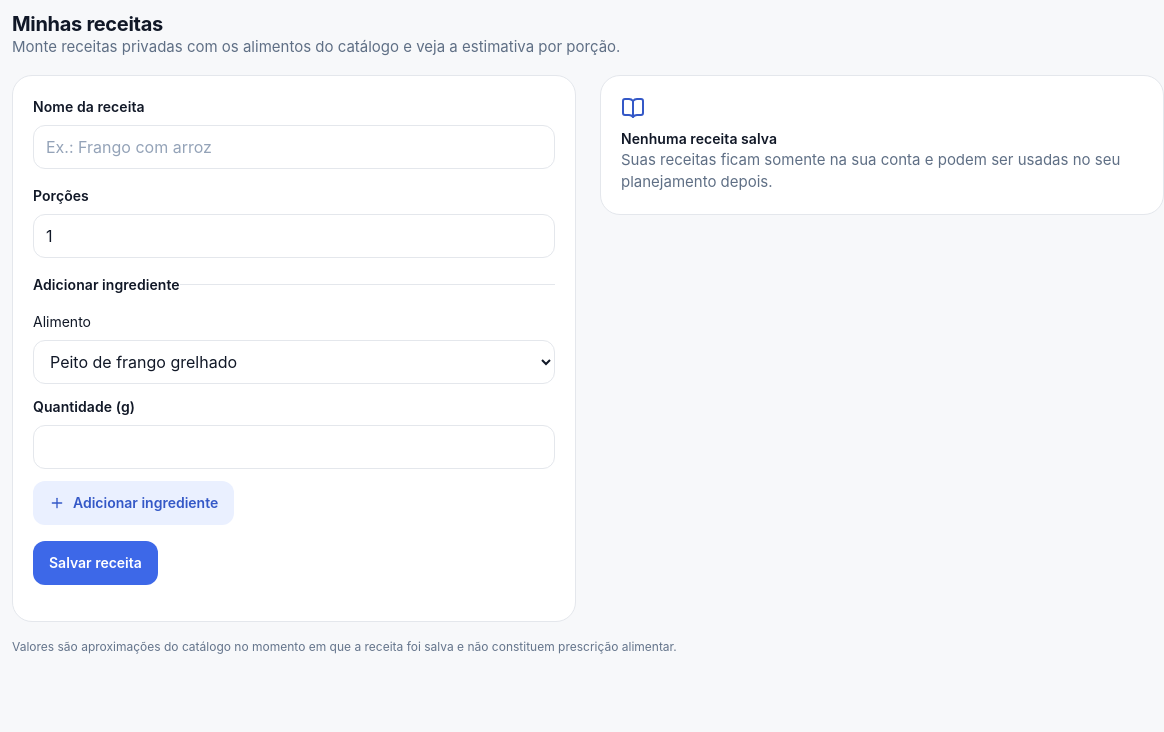
Test case: RecipePanel › builds an ingredient list and delegates a coherent recipe input
In the field labelled "Nome da receita": (294, 146) [33, 124, 555, 168], type "Frango grelhado"
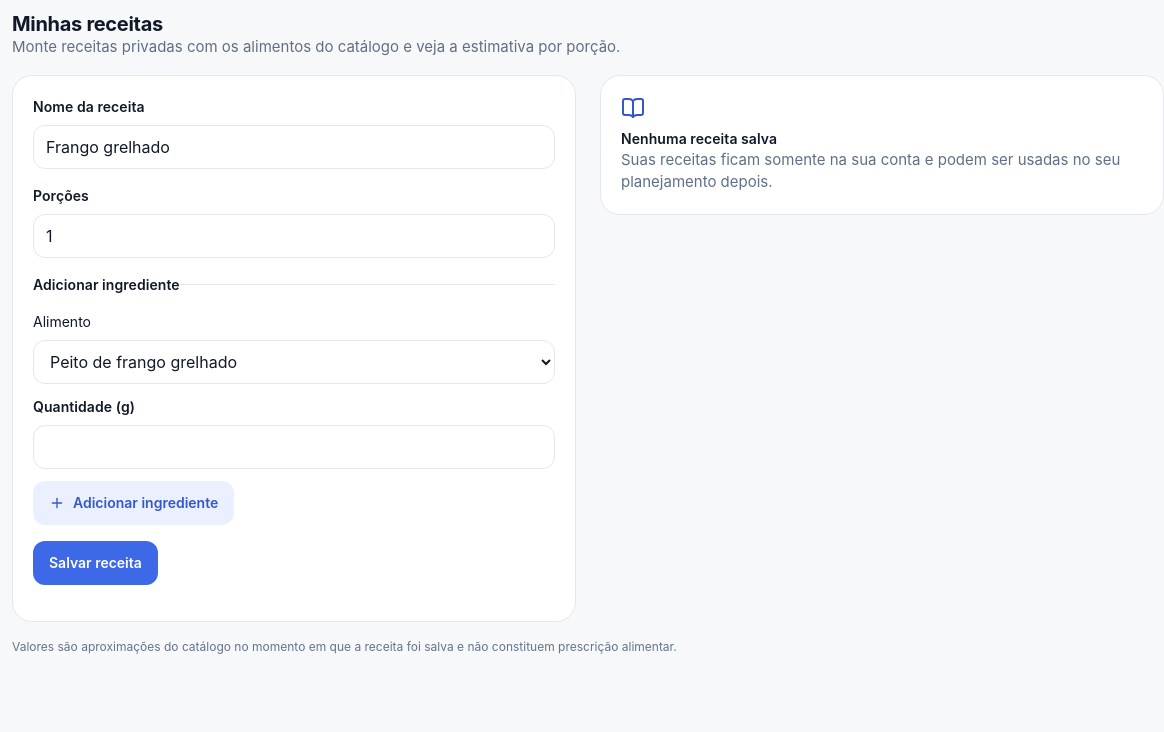
In the number field labelled "Quantidade (g)": (294, 446) [33, 424, 555, 468], type "150"
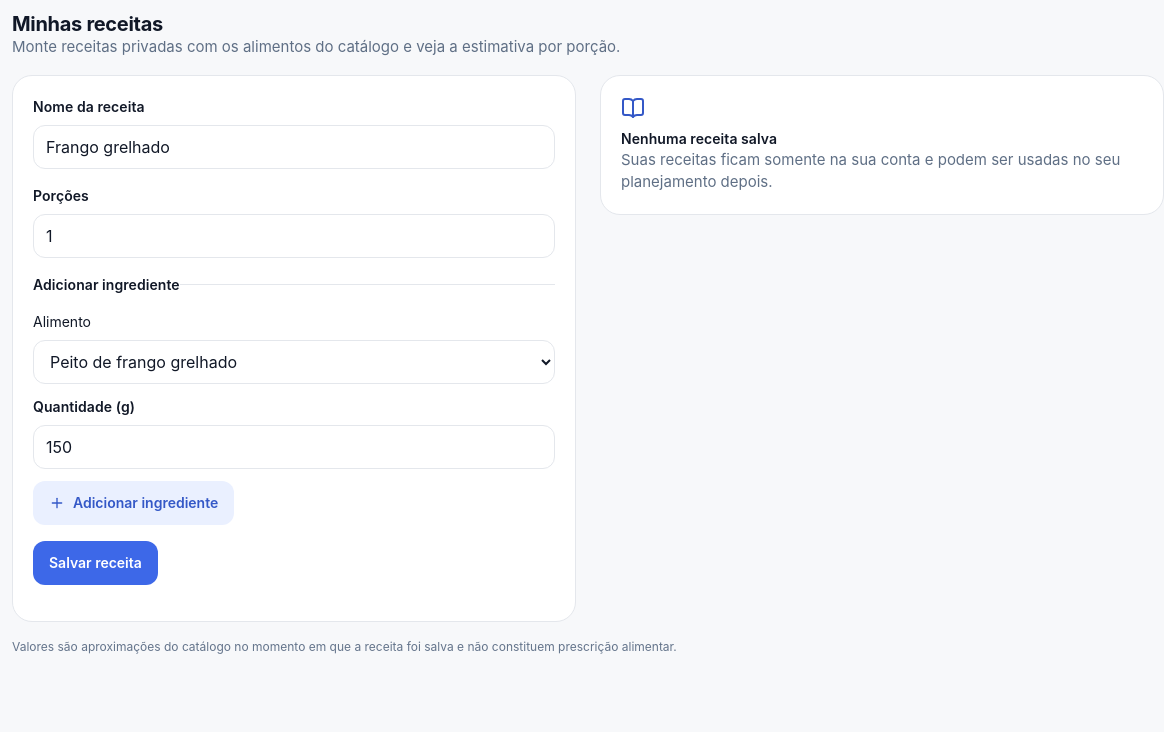
Click the button "Adicionar ingrediente": (134, 502) [33, 480, 234, 524]
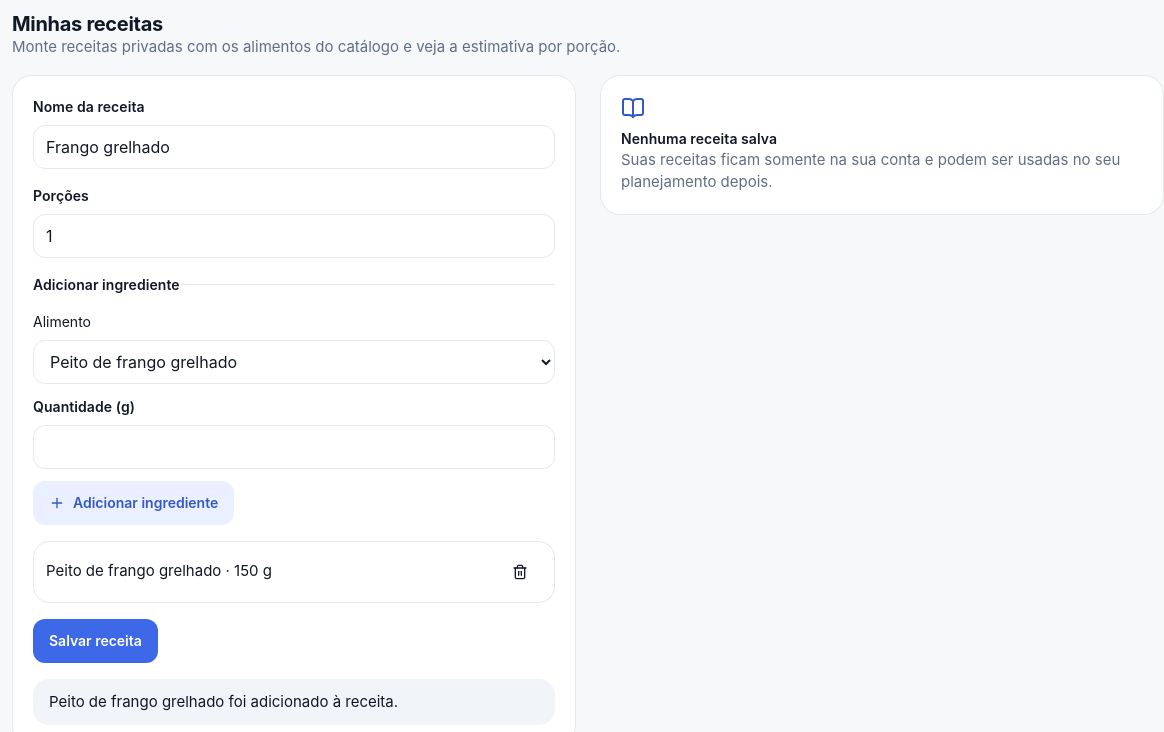
Expected: the text "Peito de frango grelhado · 150 g" is shown, [46, 560, 272, 583]
Click the button "Salvar receita": (95, 640) [33, 618, 158, 662]
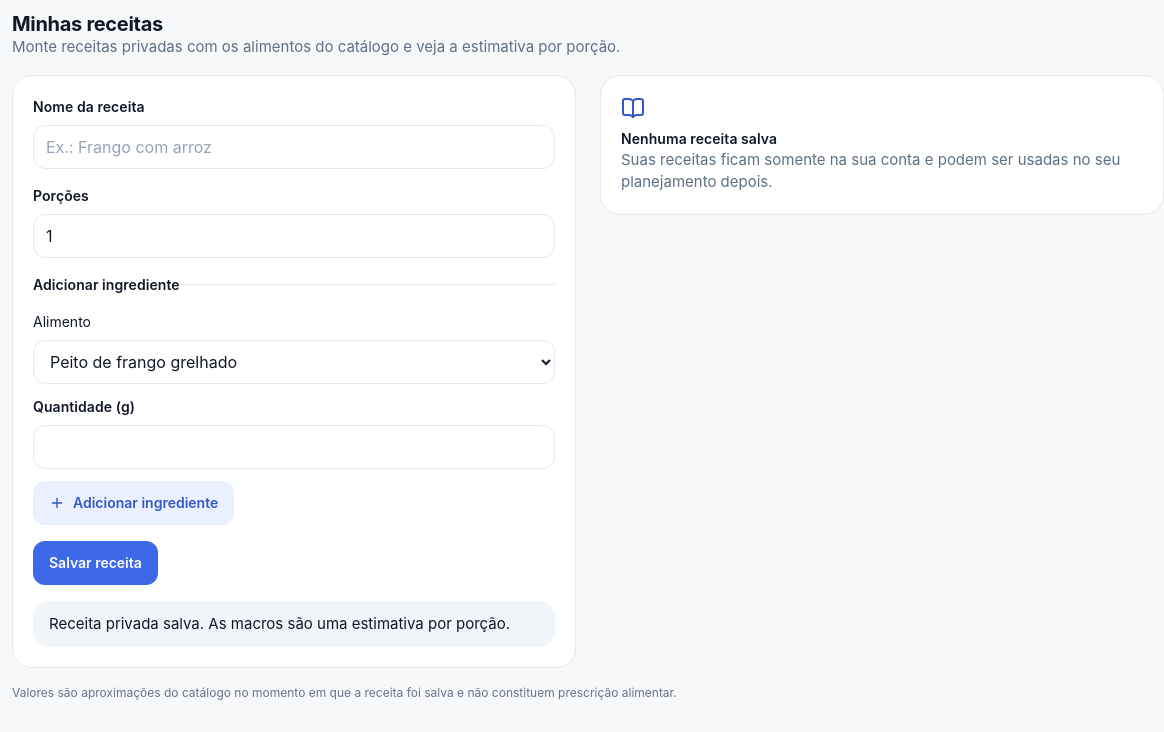
Expected: the text "Receita privada salva. As macros são uma estimativa por porção." is shown, [33, 600, 555, 647]
